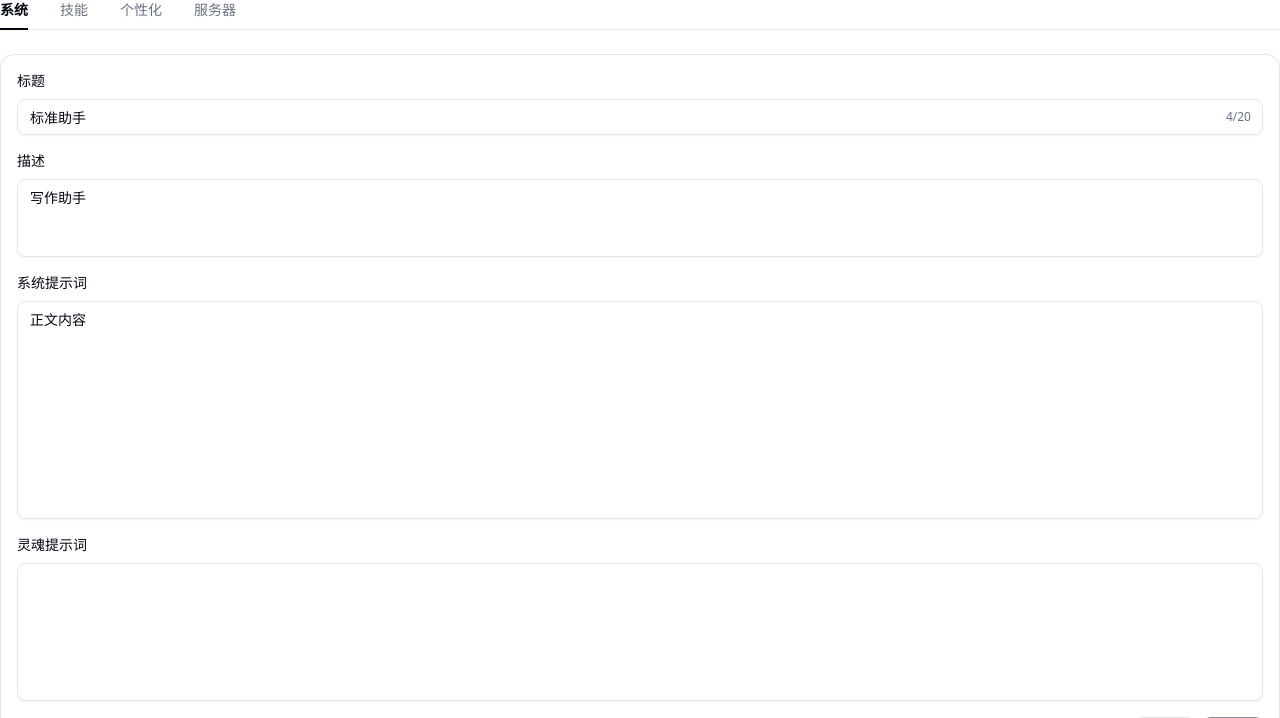
Test: SettingsPanel SYSTEM tab title/description 输入框 › 取消重置：title/正文恢复 frontmatter 初值
Replace the text in the field labelled "标题" with "临时标题": x=640, y=117 x1=17 y1=99 x2=1263 y2=135
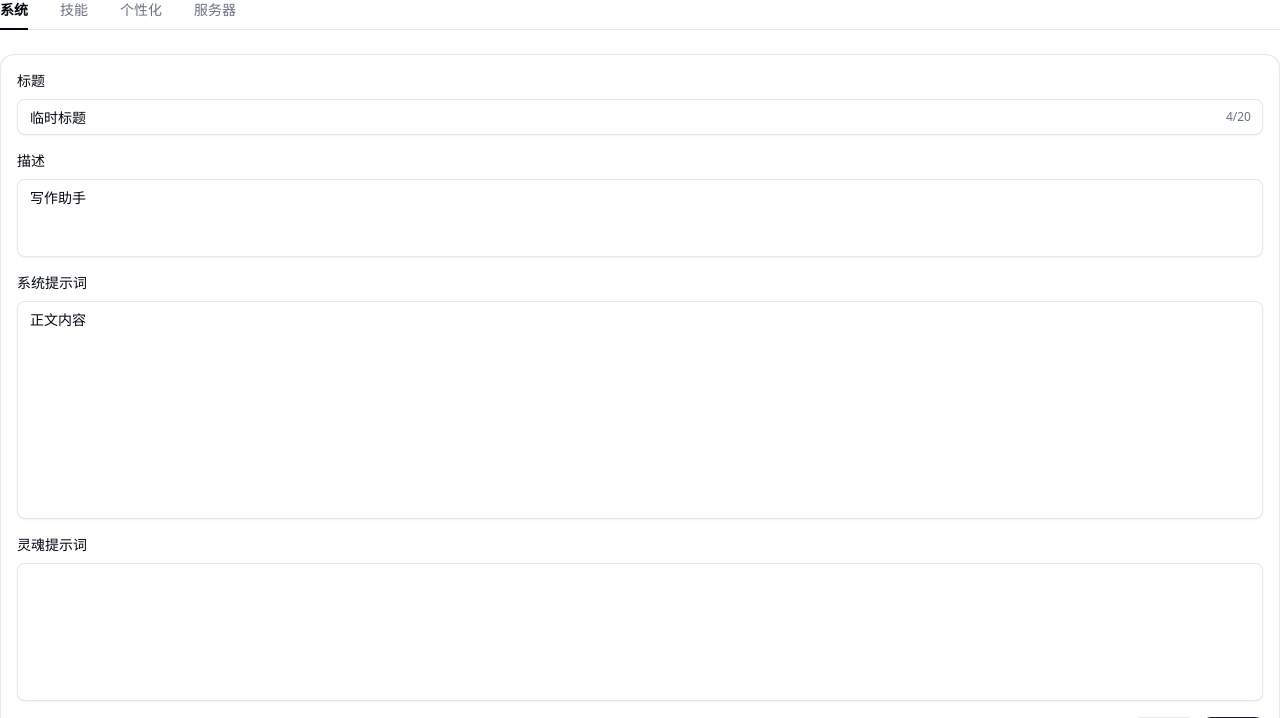
Replace the text in the text box labelled "系统提示词" with "临时正文": x=640, y=410 x1=17 y1=301 x2=1263 y2=519
(page scrolled)
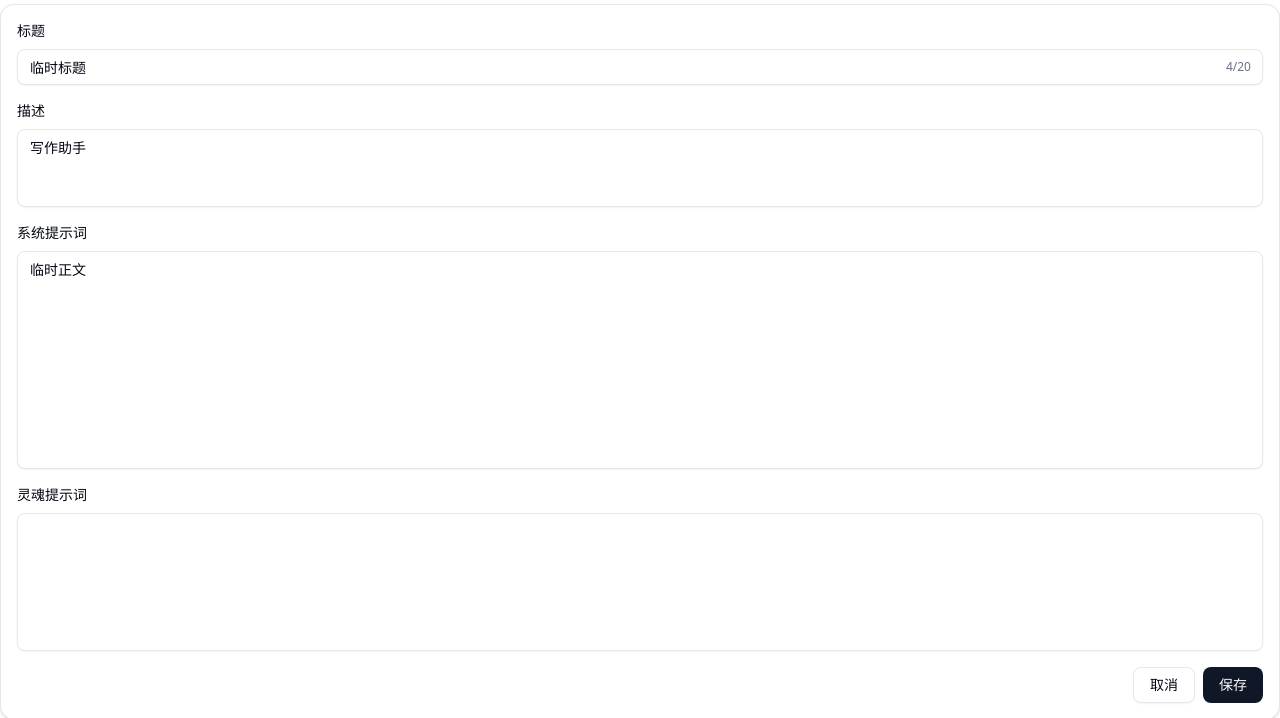
Click the button "取消": x=1164, y=685 x1=1133 y1=667 x2=1195 y2=703
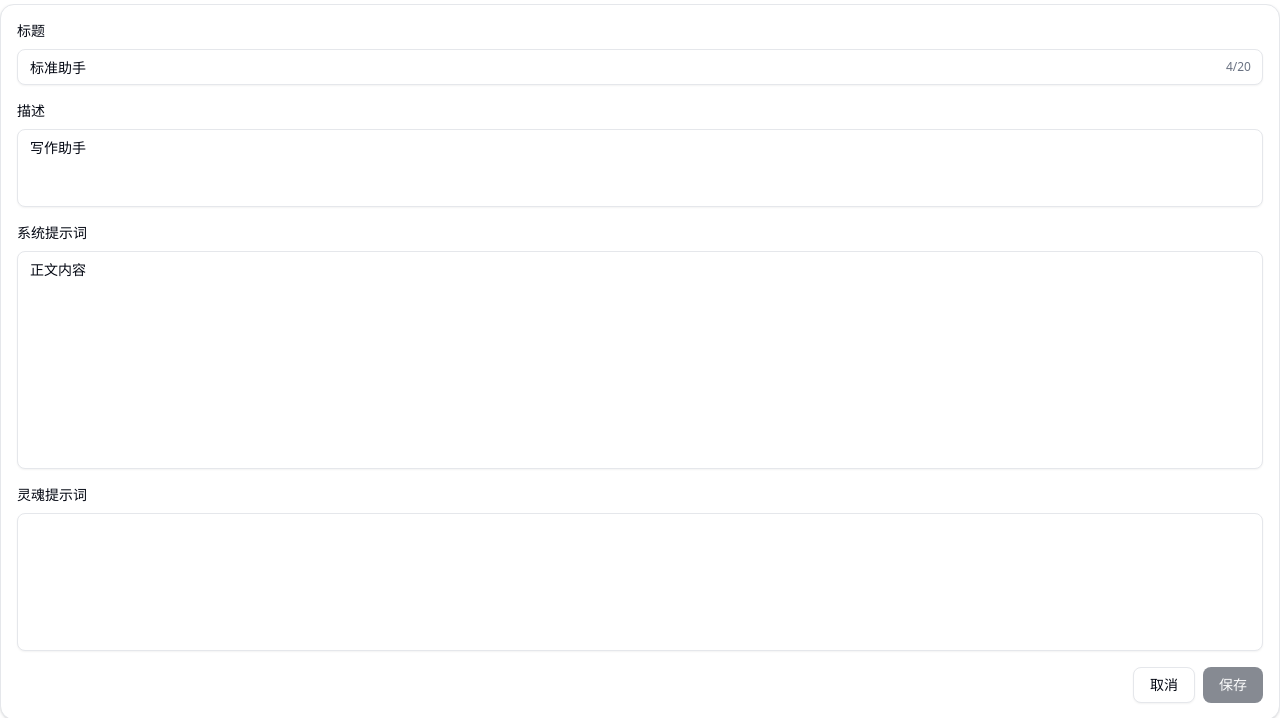
Expected: the field labelled "标题" holds "标准助手", x1=17 y1=49 x2=1263 y2=85
Expected: the text box labelled "系统提示词" holds "正文内容", x1=17 y1=251 x2=1263 y2=469
